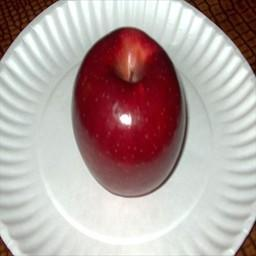apple: (71, 27, 187, 203)
